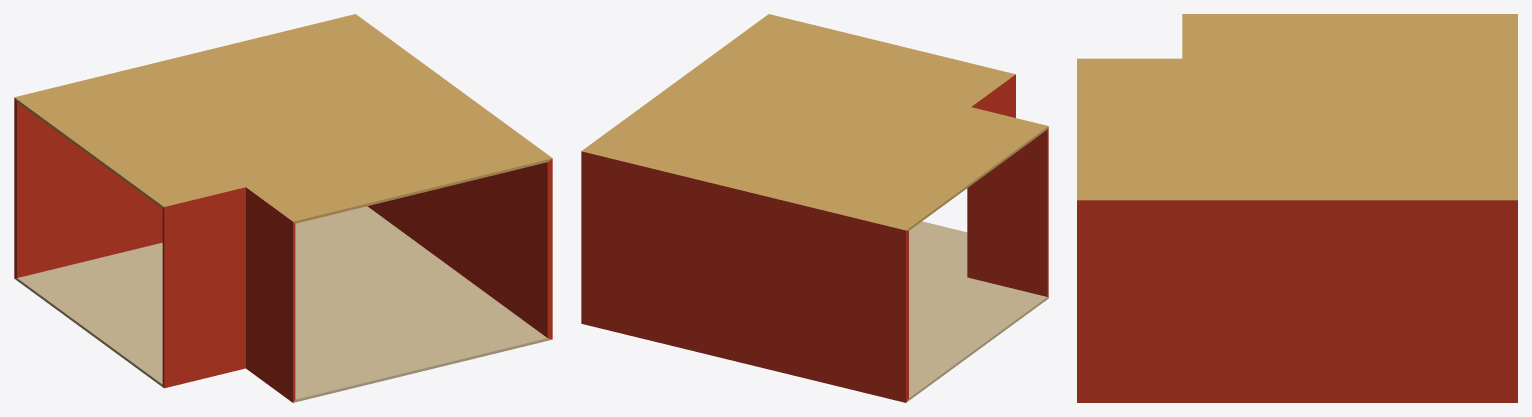
3 renders of one model, left to right at view 1: azimuth 30°, elevation 25°; view 2: azimuth 150°, elevation 25°; view 3: azimuth 270°, elevation 25°, orthographic. The views are drawn at different scales.
Parts seen in each view (by area): view 1: PlanoL; view 2: PlanoL; view 3: PlanoL.
Boxes of the visible parts, x1,y1,x2,y2 form: PlanoL: [14, 14, 552, 402]; PlanoL: [581, 14, 1048, 402]; PlanoL: [1077, 14, 1517, 402].
Bounding box in the file's own units: 812 × 412 × 812.
